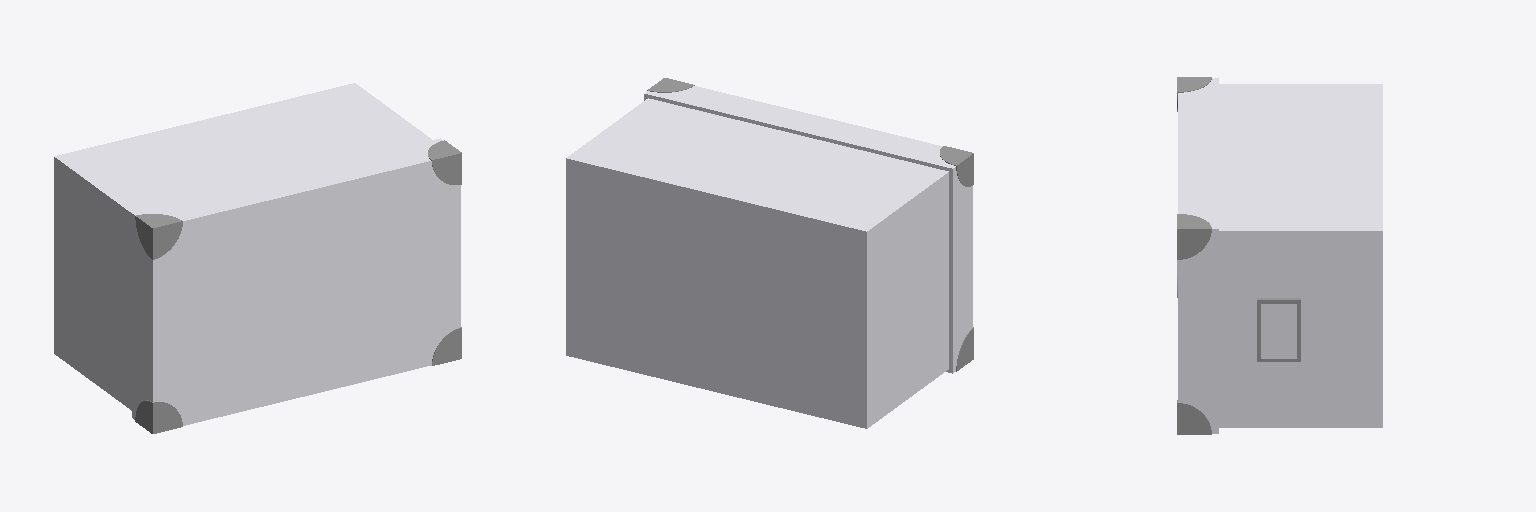
File: cat29_box.obj
The picture shows the model from 3 angles: view 1: azimuth 30°, elevation 25°; view 2: azimuth 150°, elevation 25°; view 3: azimuth 270°, elevation 25°; orthographic projection.
Parts seen in each view (by area): view 1: GhostWhite, DarkGray; view 2: GhostWhite, DarkGray; view 3: GhostWhite, DarkGray.
Boxes of the visible parts, box(x1,y1,x2,y2) form: GhostWhite: box(54, 83, 460, 425); DarkGray: box(135, 140, 461, 433); GhostWhite: box(566, 86, 972, 428); DarkGray: box(647, 78, 973, 371); GhostWhite: box(1178, 78, 1382, 433); DarkGray: box(1177, 77, 1300, 434).
Size of the model in its own units: 0.261 by 0.166 by 0.1505.